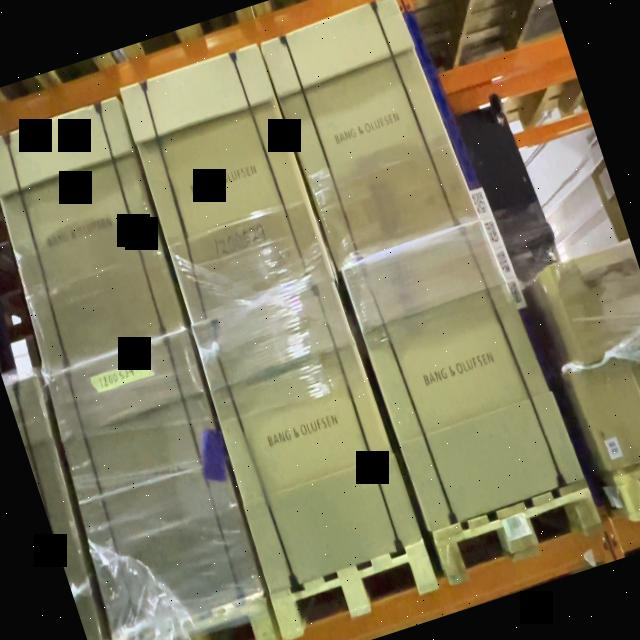box: (347, 228, 568, 532), (195, 286, 418, 582), (43, 341, 261, 640), (118, 45, 332, 318), (262, 0, 462, 269), (0, 103, 181, 357), (551, 239, 640, 361), (562, 346, 640, 483)
